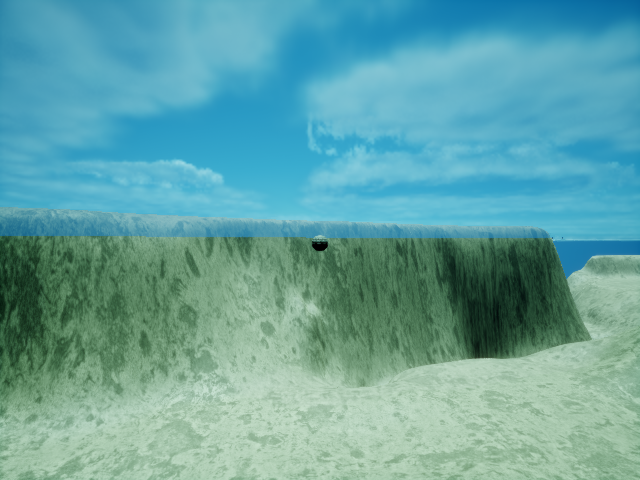Disk: (311, 233, 329, 253)
